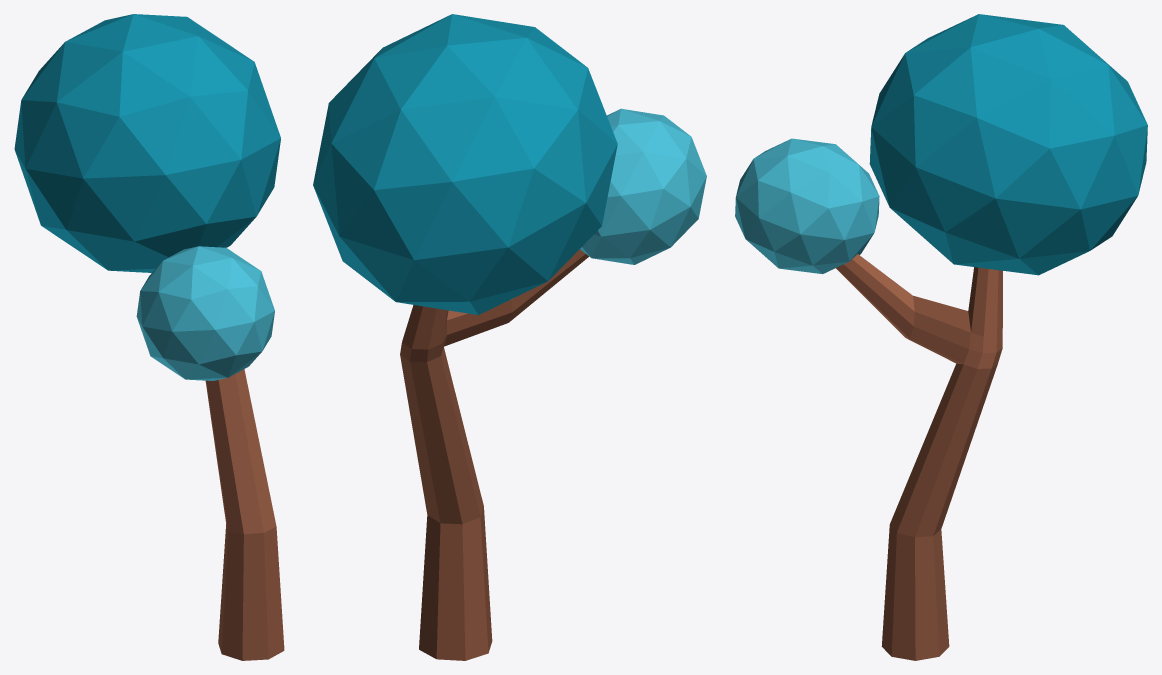
Rendered from Tree_02_summer_blue_pal.fbx.
The picture shows the model from 3 angles, left to right: view 1: azimuth 30°, elevation 25°; view 2: azimuth 150°, elevation 25°; view 3: azimuth 270°, elevation 25°; orthographic projection. The views are drawn at different scales.
Parts seen in each view (by area): view 1: Tree_02_summer_blue_pal; view 2: Tree_02_summer_blue_pal; view 3: Tree_02_summer_blue_pal.
Part boxes in pixels (bbox=[...]): Tree_02_summer_blue_pal: bbox=[14, 14, 284, 660]; Tree_02_summer_blue_pal: bbox=[313, 14, 706, 660]; Tree_02_summer_blue_pal: bbox=[735, 14, 1147, 660].
Bounding box in the file's own units: 71.42 × 177 × 112.
